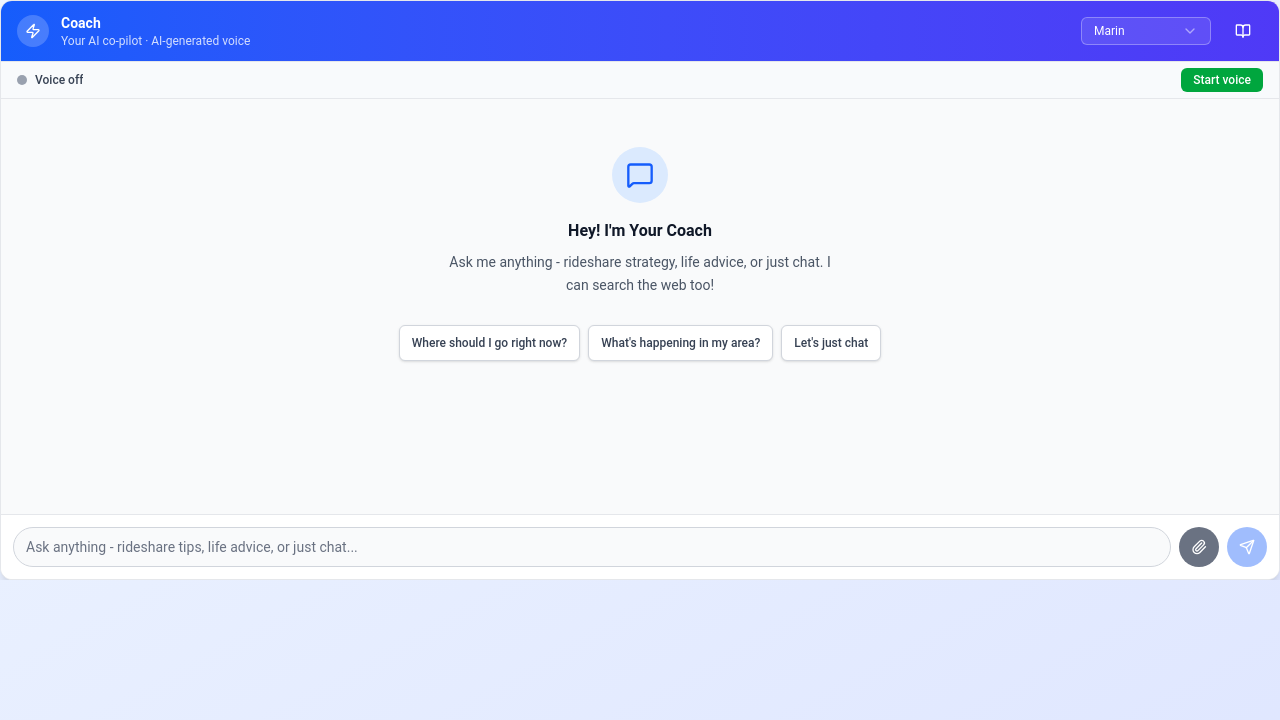
Test: mounted Coach canonical input and confirmed output › saved memo waits for the final receipt before speech, refresh and durable confirmation
The width and height of the screenshot is (1280, 720).
Click the button with test id "button-toggle-notes".
click(1243, 31)  # box [1223,13,1263,49]
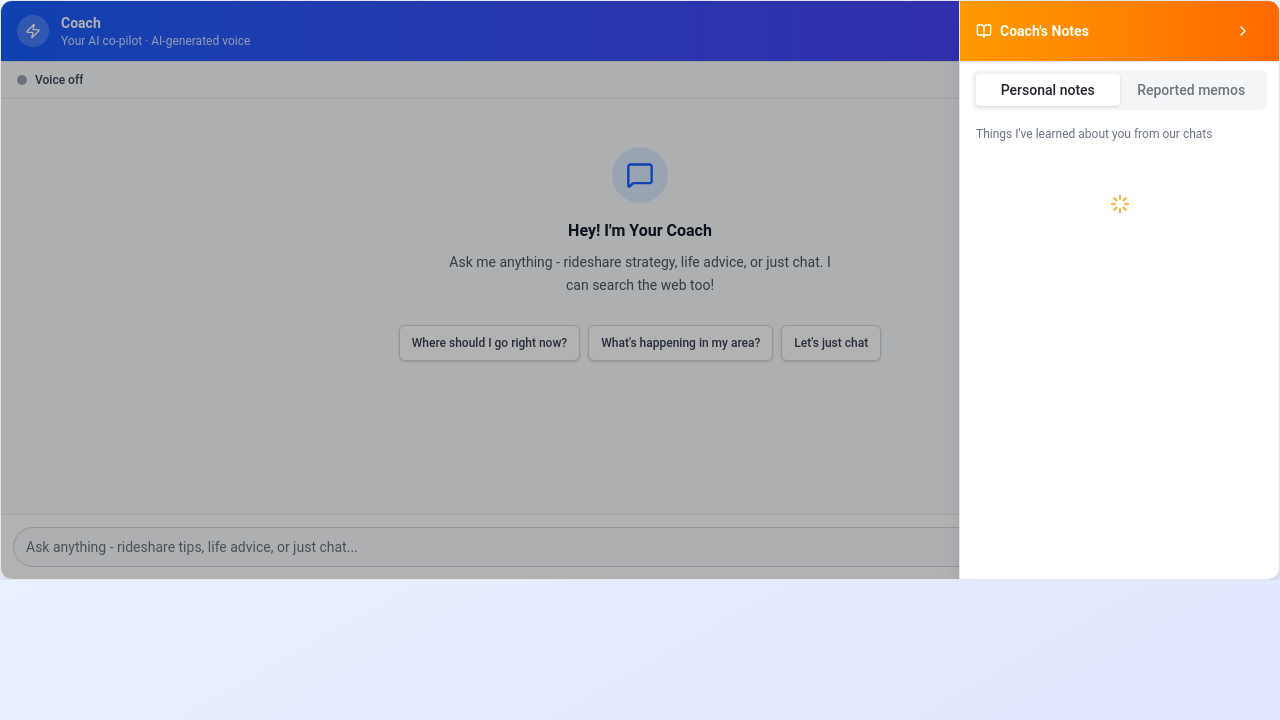
Press the mouse on the tab "Reported memos" at (1191, 90), box [1120,74,1263,106]
Wait 300 ms
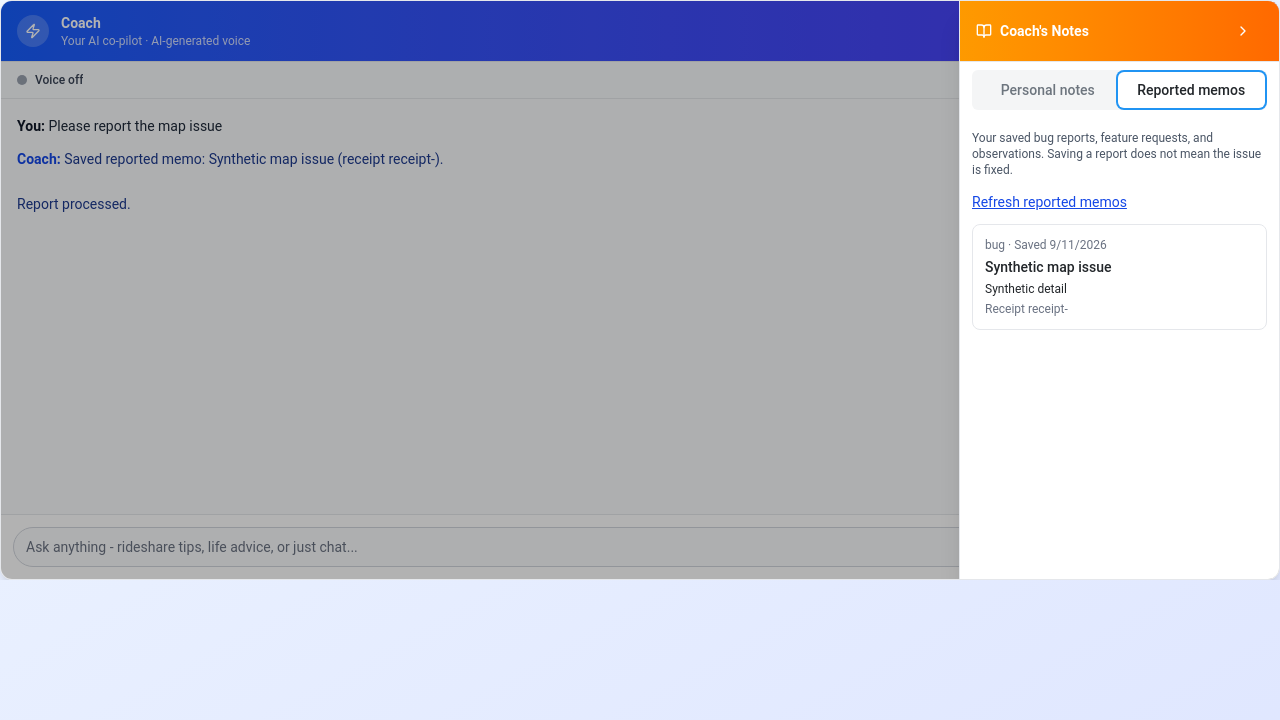
Result: the heading "Synthetic map issue" is shown at [985,259,1112,275]
